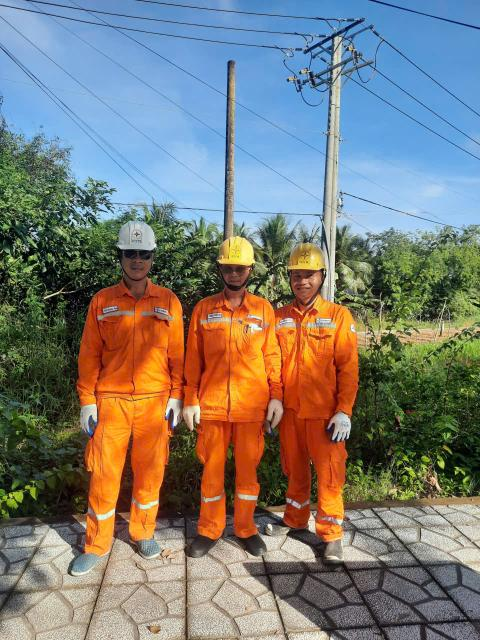gloves: (67, 396, 113, 433), (256, 394, 293, 436), (323, 413, 354, 448), (158, 391, 182, 433), (176, 398, 199, 432)
helmet: (111, 214, 162, 257), (210, 231, 258, 272), (288, 235, 331, 274)
shoes: (68, 545, 119, 582), (263, 514, 307, 544), (318, 536, 349, 573), (186, 521, 219, 555), (130, 531, 174, 556), (231, 533, 272, 554)
